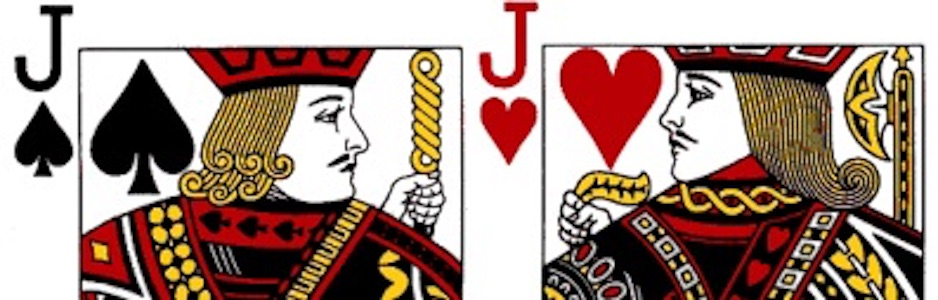JackOfHearts: (467, 1, 932, 300)
JackOfSpades: (5, 1, 470, 299)
